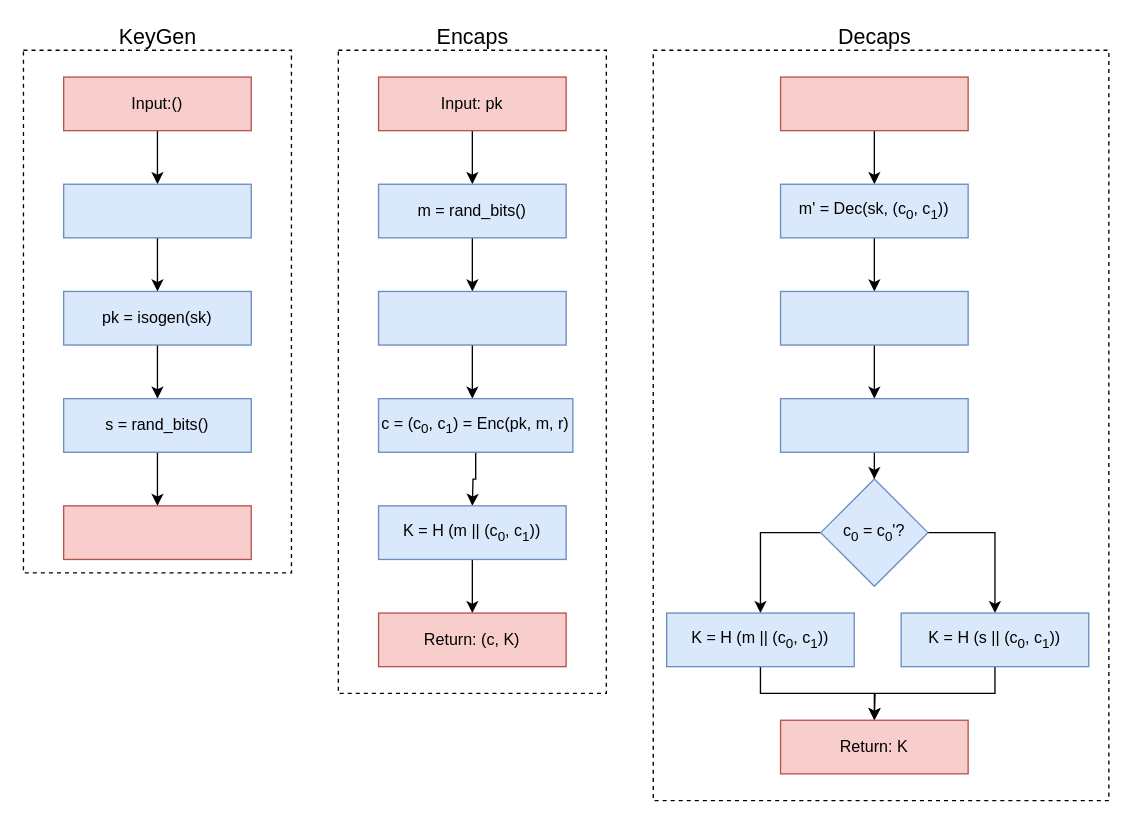
Some shapes in this 1132 by 824 pixel diagram are drawn without their labels. Each missing label, with the centre of its shape:
c 0 ' = isogen(r'): (x=873, y=424)
Input: (s, sk, pk), c: (x=873, y=103)
r = G(m || pk): (x=471, y=317)
r' = G(m' || pk): (x=873, y=317)
Return: (s, sk, pk): (x=156, y=532)
sk = rand(): (x=156, y=210)
